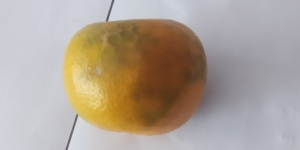BAD: (64, 19, 208, 136)
